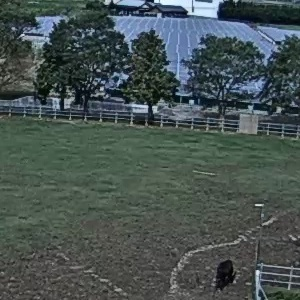cow: (188, 239, 244, 299)
